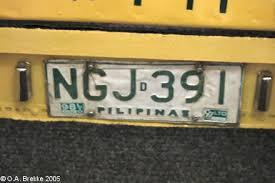plate: (45, 60, 239, 126)
